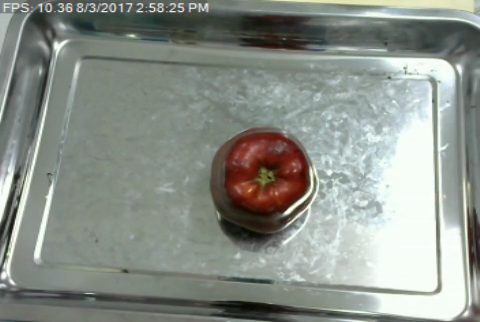Apple: (206, 122, 319, 237)
